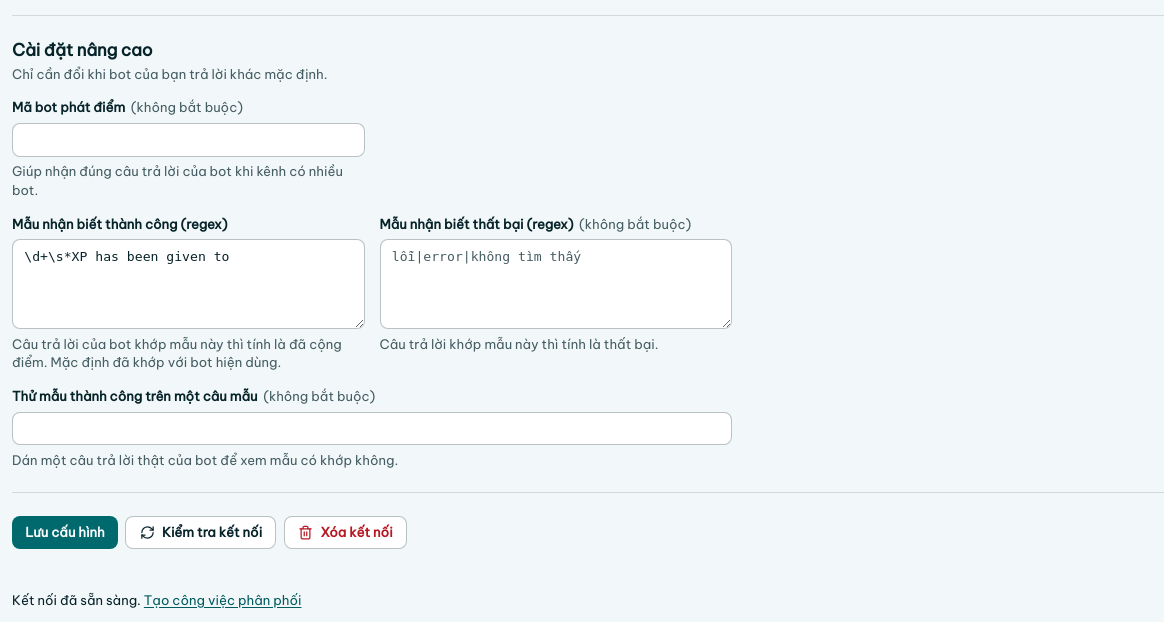
Test: CredentialsPage › lưu cấu hình thiếu mã kênh: báo lỗi tại ô, không gọi PUT
(page scrolled)
Click the button "Lưu cấu hình" at (65, 533), box [12,516,118,550]
(page scrolled)
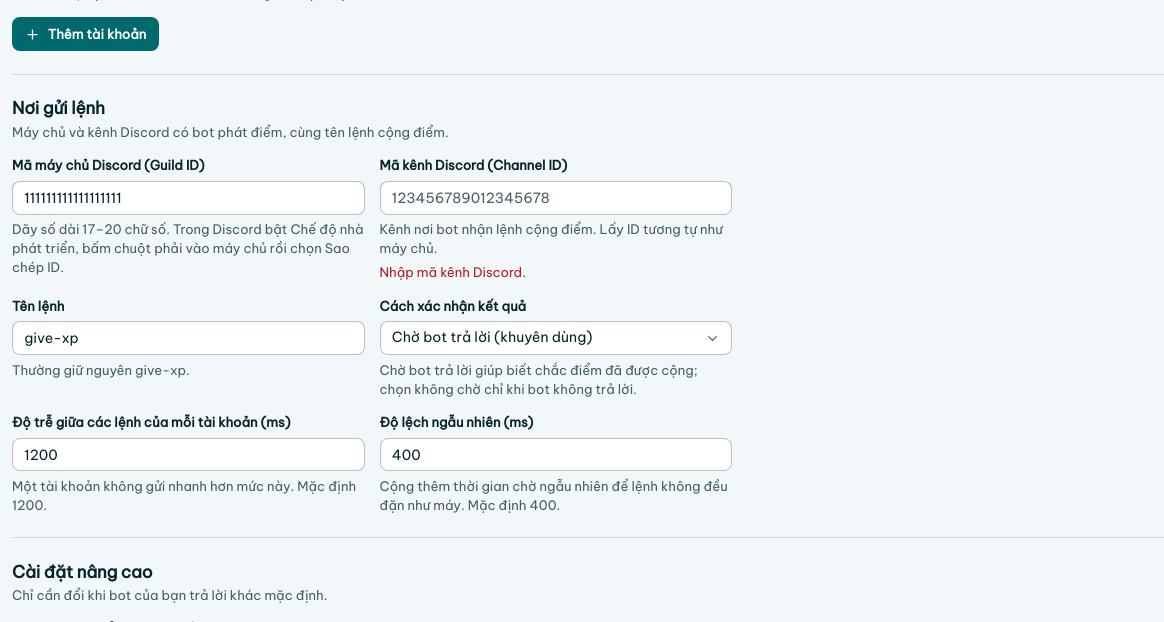
Expected: the text "Nhập mã kênh Discord." is shown, [380,264,526,280]
